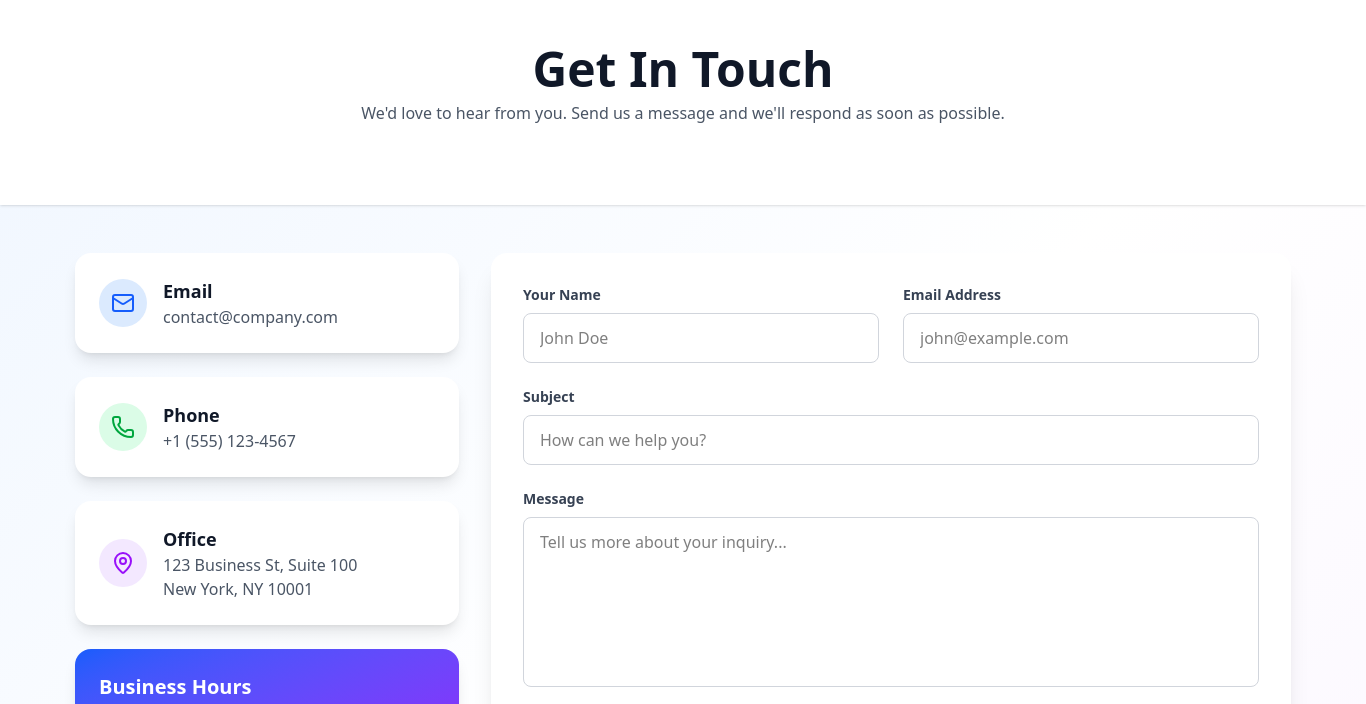
Test: Contact form testing › User can fill the form and submits
Step 1. Type "Test User" into the field with placeholder "John Doe" → (701, 338), box [523,313,879,363]
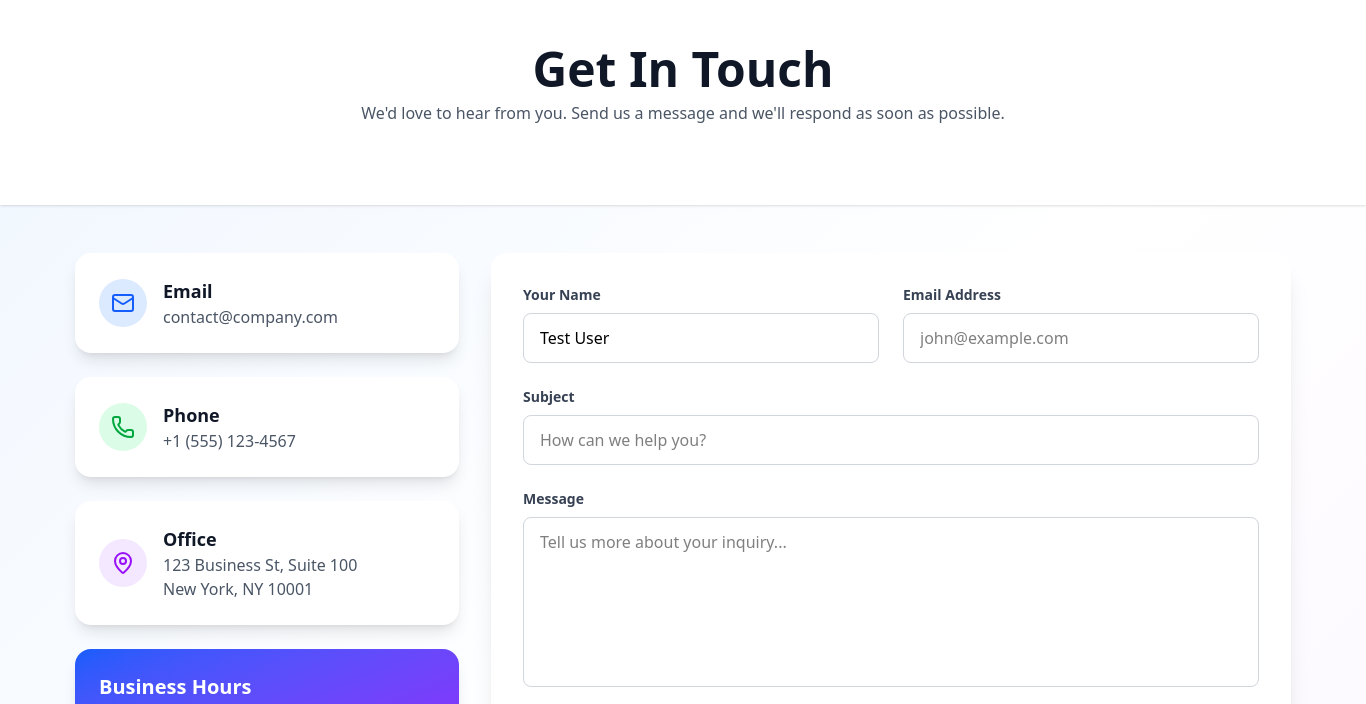
Step 2. Type "test@gmail.com" into the field with placeholder "john@example.com" → (1081, 338), box [903,313,1259,363]
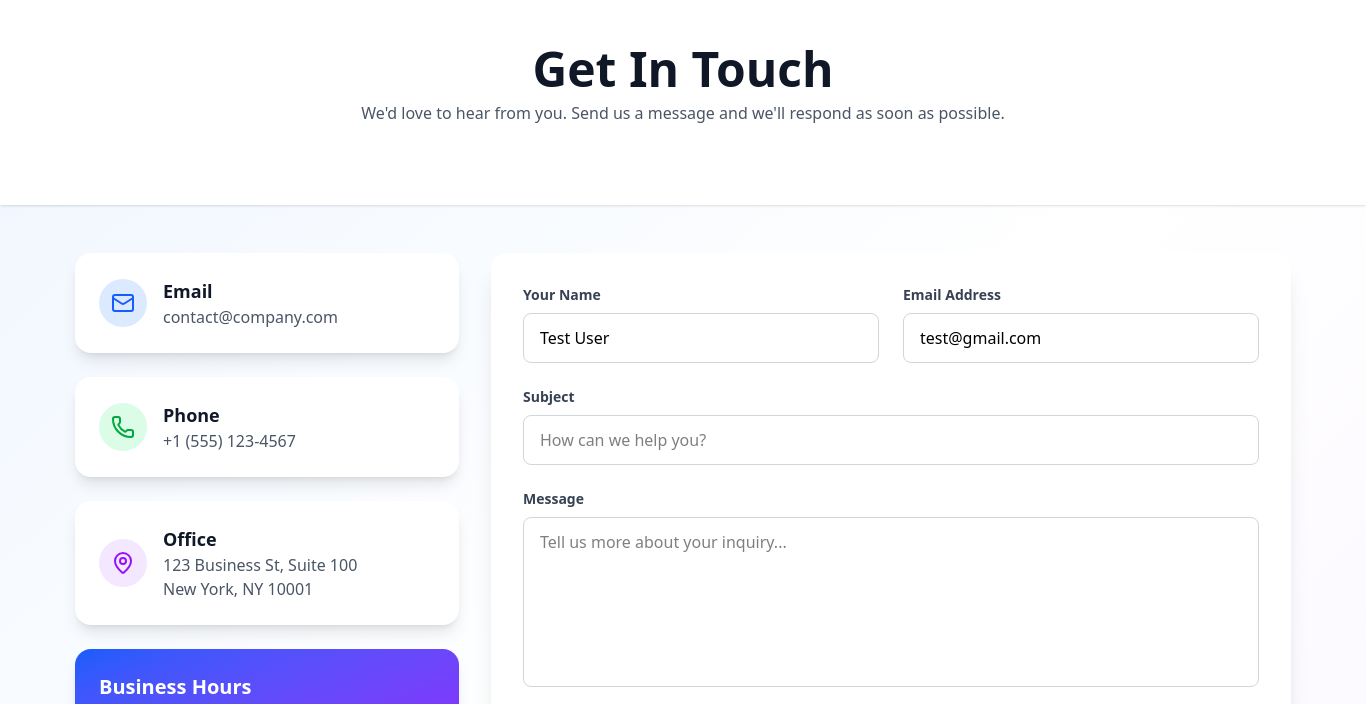
Step 3. Type "Test Subject" into the field with placeholder "How can we help you?" → (891, 440), box [523,415,1259,465]
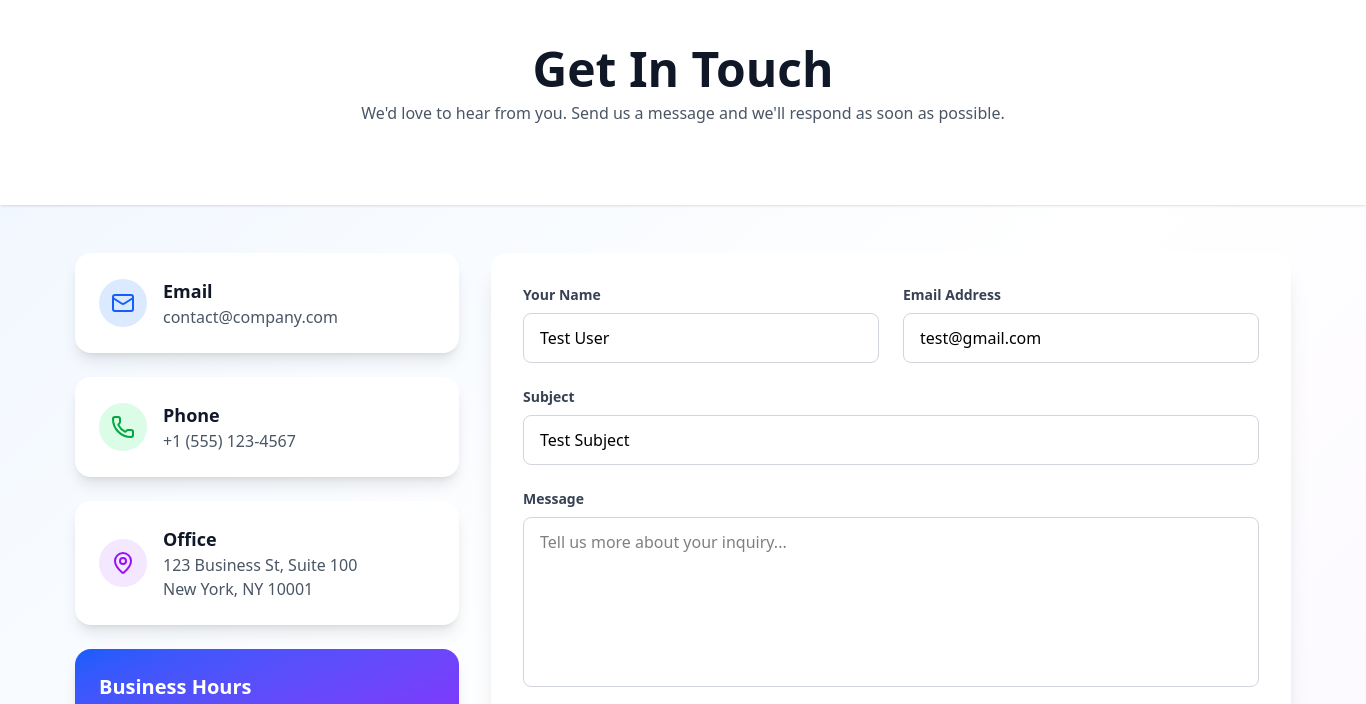
Step 4. Type "Test Message" into the text box with placeholder "Tell us more about your inquiry..." → (891, 602), box [523,517,1259,687]
(page scrolled)
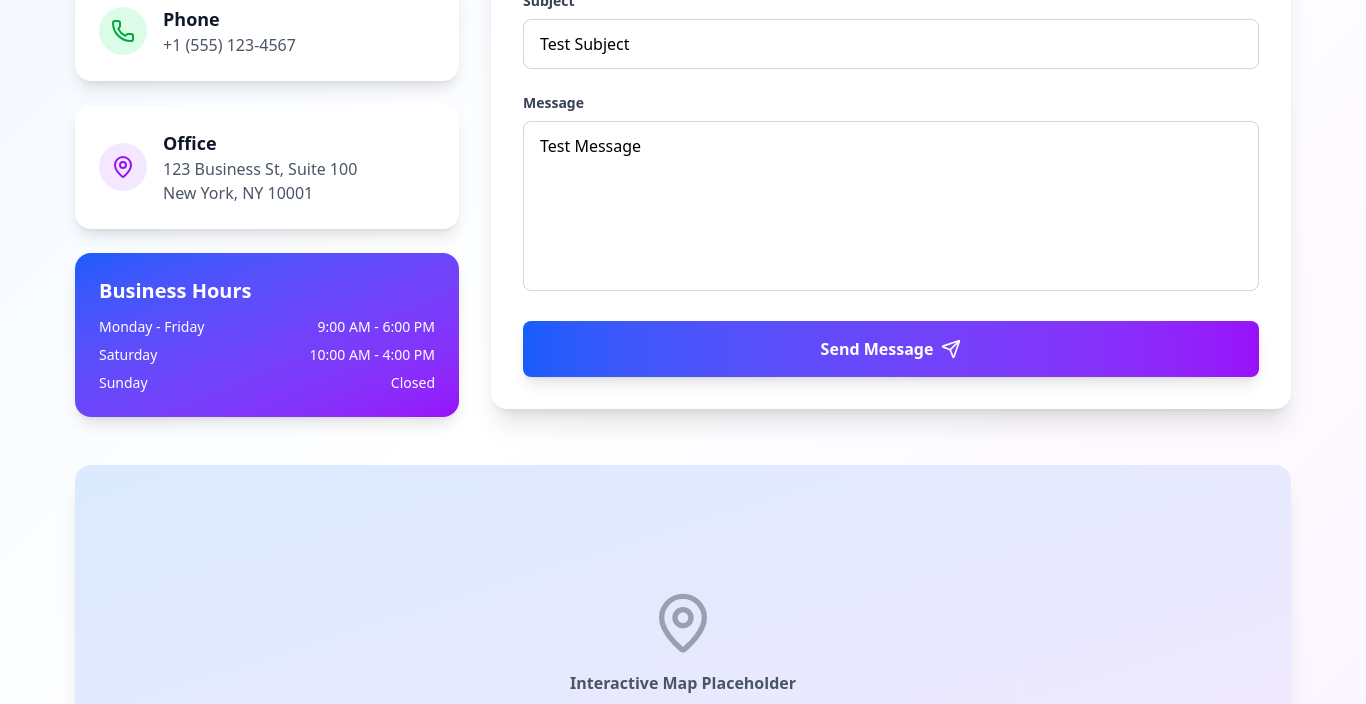
Step 5. Click the button "Send Message" → (891, 349), box [523,321,1259,377]
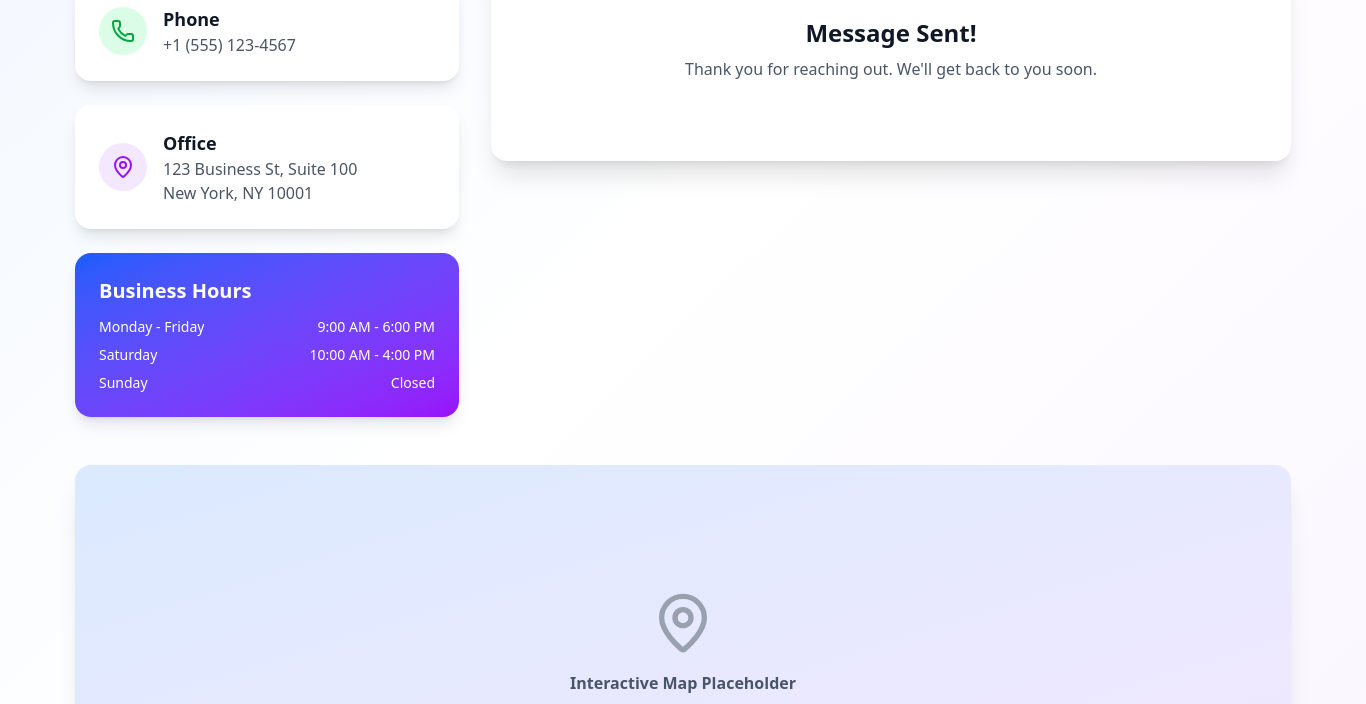
Now the heading "Message Sent!" is shown, box [805,16,977,49]
Now the text "Thank you for reaching out. We'll get back to you soon." is shown, box [685,58,1097,80]
